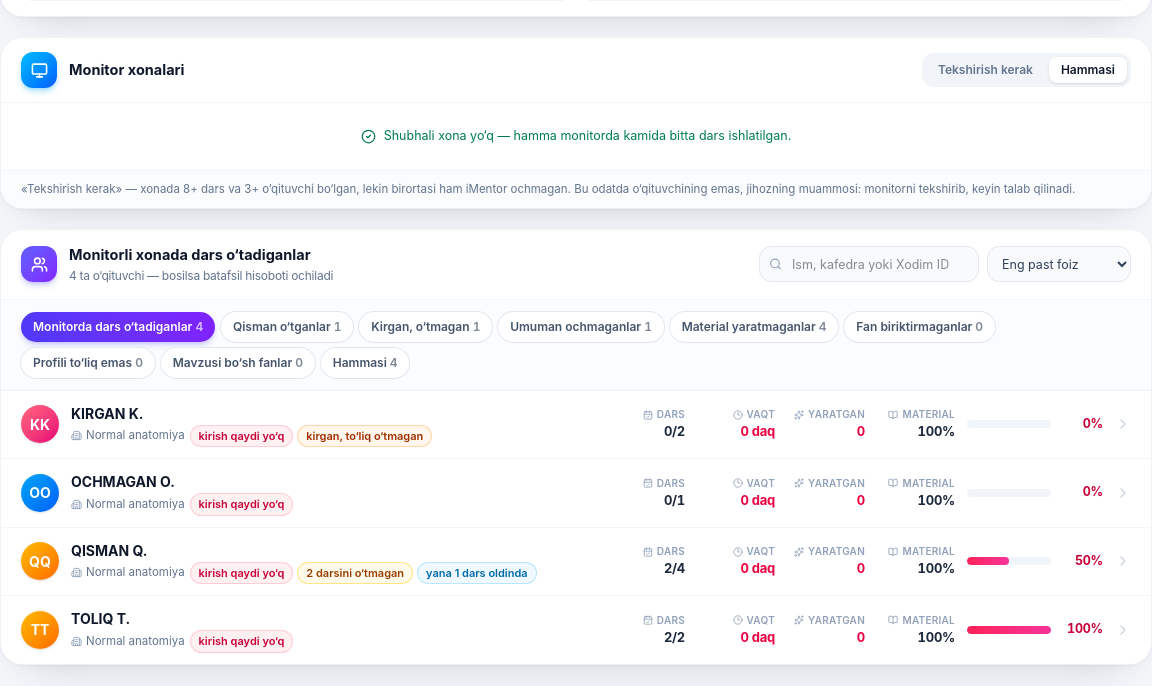
O‘qituvchilar kesimi › qisman o‘tgan o‘qituvchida nechta darsi qolgani yozilgan va filtr ishlaydi
This screenshot has width=1152, height=686.
(page scrolled)
Expected: the text "2 darsini o‘tmagan" is shown, [298,562,412,583]
Expected: the text "yana 1 dars oldinda" is shown, [418,562,536,583]
Click the button "Qisman o‘tganlar 1". click: (287, 326)
box: [221,312,353,342]
(page scrolled)
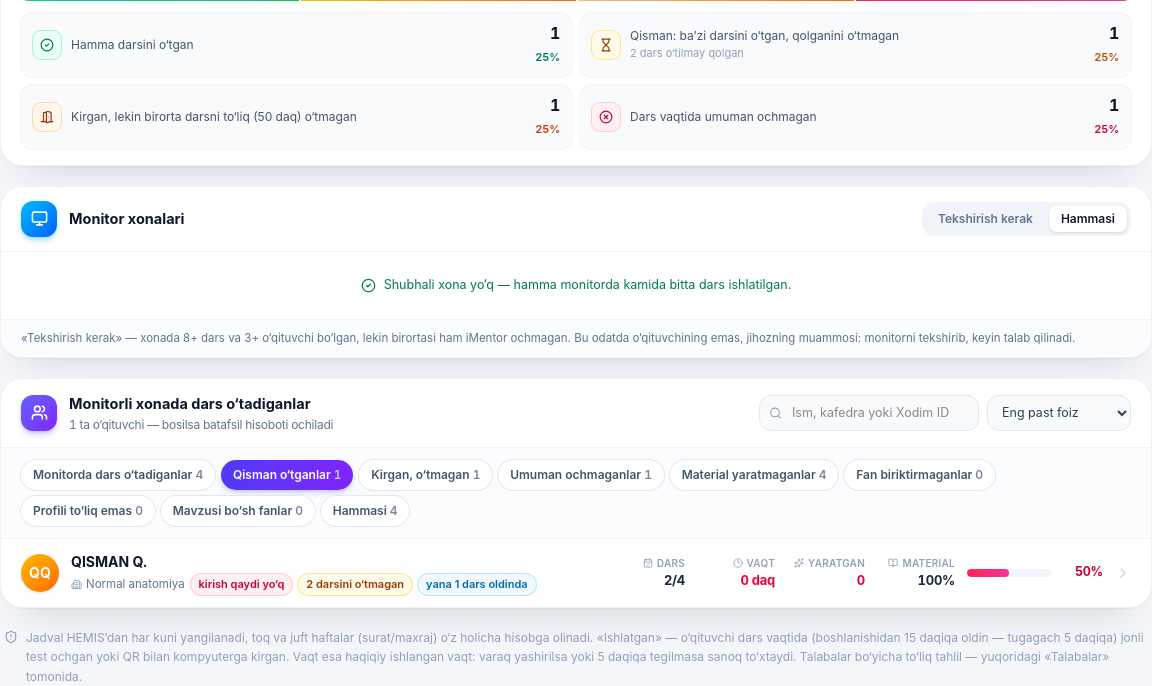
Expected: the text "Monitorli xonada dars o‘tadiganlar" shows "QISMAN Q.", [1,539,1151,606]
Now the button "Monitorli xonada dars o‘tadiganlar" no longer shows "TOLIQ T."
